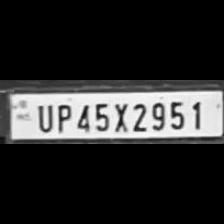1: (188, 99, 206, 130)
2: (128, 99, 146, 133)
4: (73, 100, 91, 132)
5: (90, 100, 110, 132), (166, 98, 186, 130)
9: (147, 99, 165, 130)
P: (53, 102, 71, 132)
U: (33, 102, 53, 132)
X: (110, 99, 130, 133)
